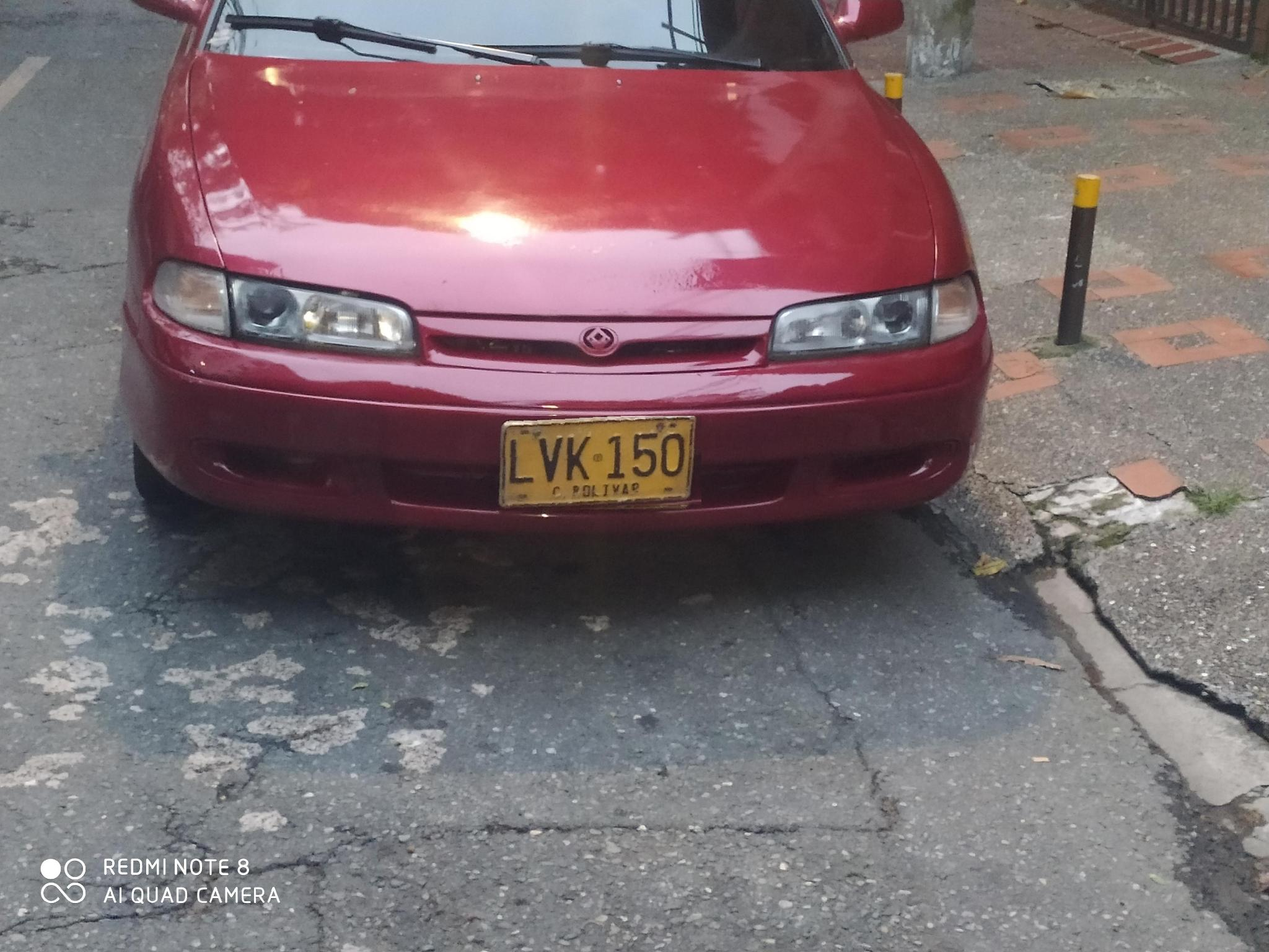placa: (488, 416, 702, 514)
